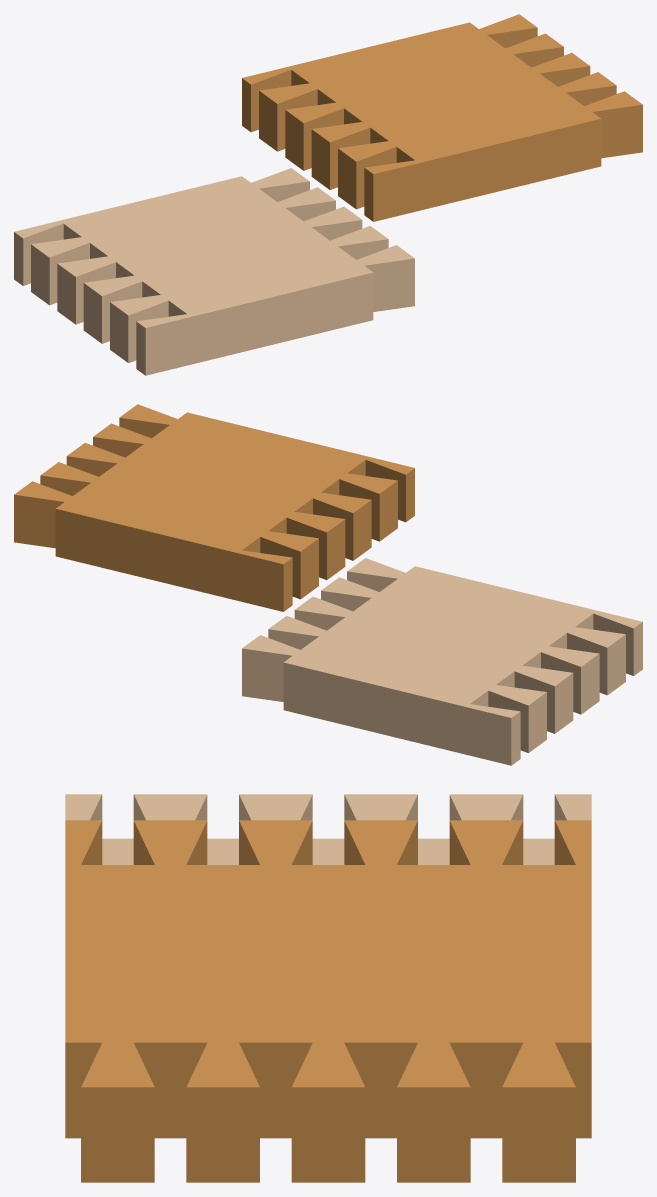
The picture shows the model from 3 angles, top to bottom: view 1: azimuth 30°, elevation 25°; view 2: azimuth 150°, elevation 25°; view 3: azimuth 270°, elevation 25°; orthographic projection. The views are drawn at different scales.
Size of the model in its own units: 0.22 by 0.0612 by 0.1.
